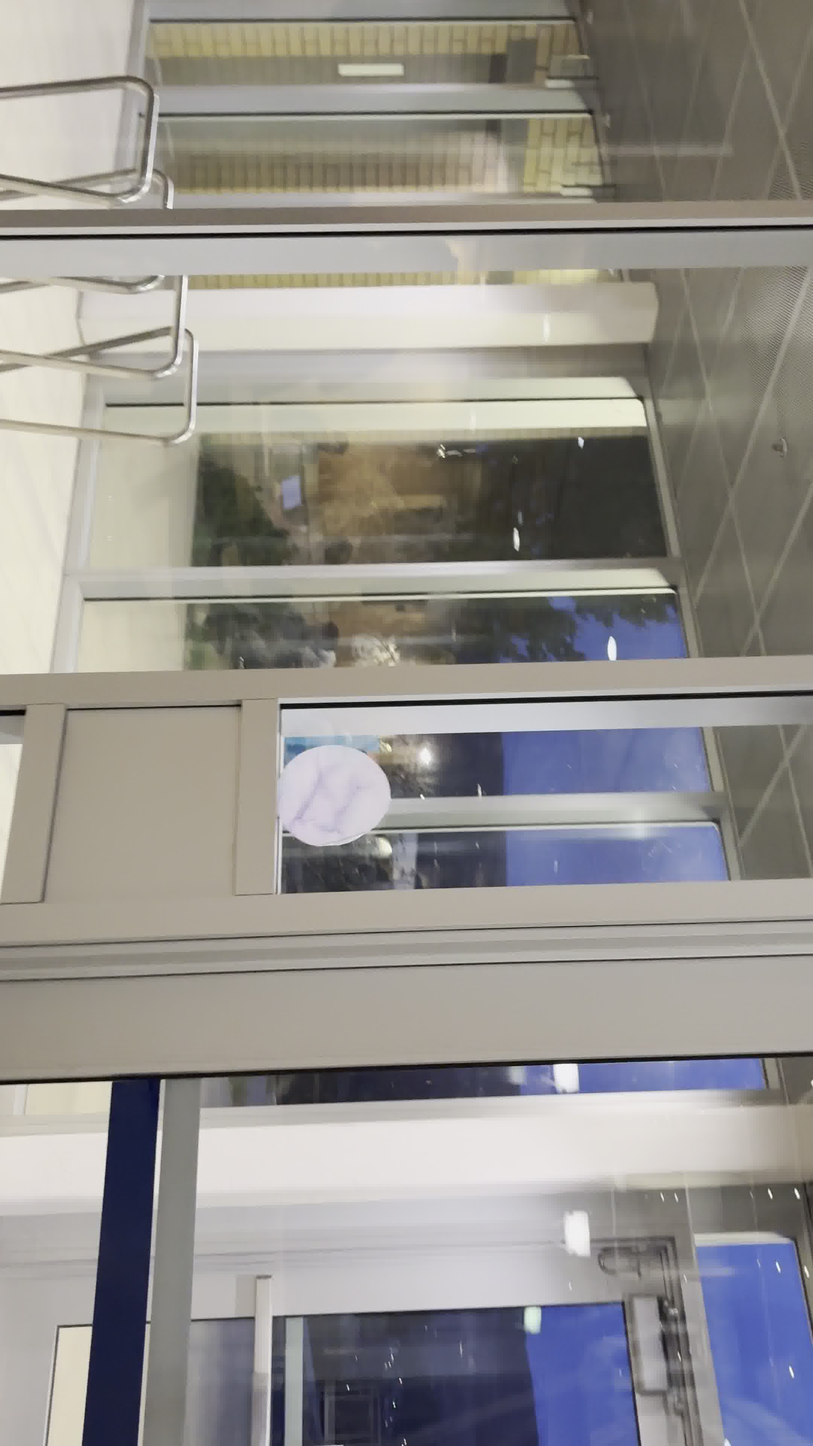Target: (274, 744, 391, 847)
